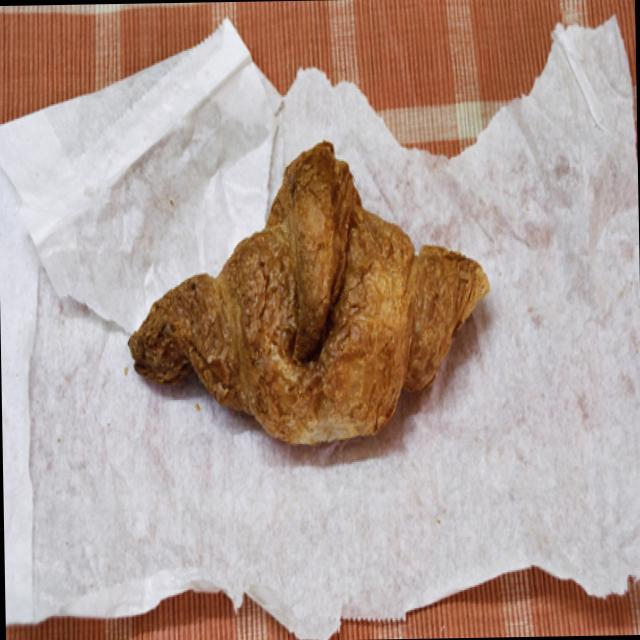Croissant: (132, 128, 481, 473)
